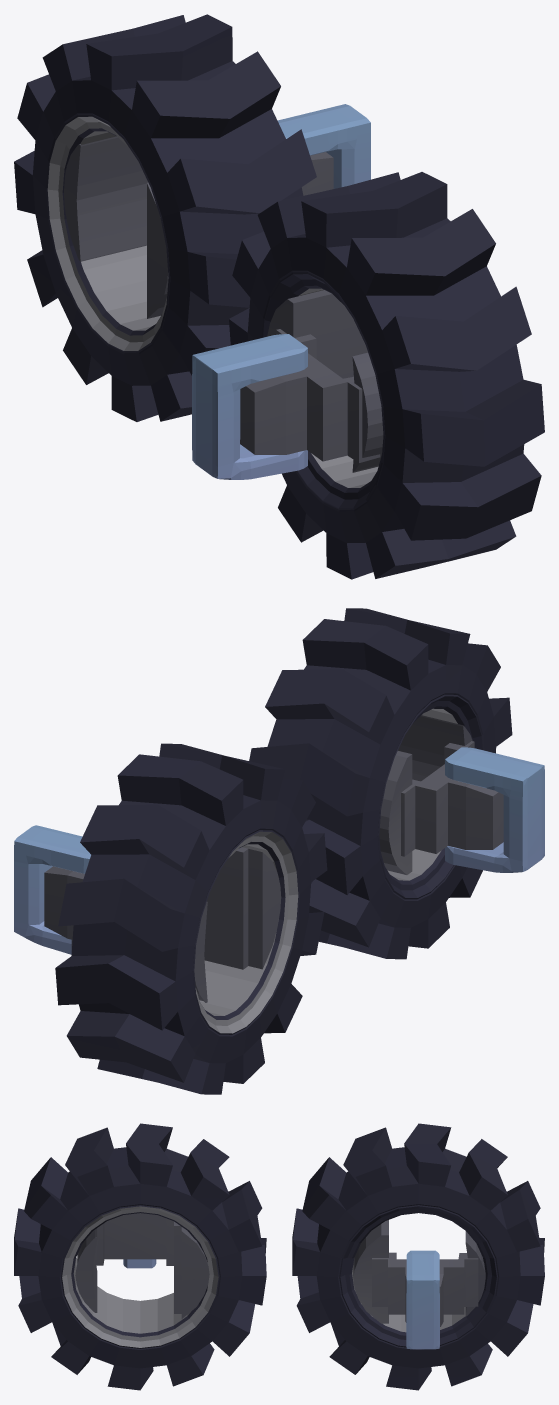
Rendered from Rodas.fbx.
The picture shows the model from 3 angles, top to bottom: view 1: azimuth 30°, elevation 25°; view 2: azimuth 150°, elevation 25°; view 3: azimuth 270°, elevation 25°; orthographic projection. The views are drawn at different scales.
Visible parts, largest first — view 1: Roda_Areia_Esquerda, Roda_Areia_Direita, Roda_Areia_Esquerda_Heixo, Roda_Areia_Direita_Heixo, Roda_Areia_Esquerda_Pivot, Roda_Areia_Direita_Pivot; view 2: Roda_Areia_Direita, Roda_Areia_Esquerda, Roda_Areia_Esquerda_Heixo, Roda_Areia_Direita_Heixo, Roda_Areia_Esquerda_Pivot, Roda_Areia_Direita_Pivot; view 3: Roda_Areia_Esquerda, Roda_Areia_Direita, Roda_Areia_Esquerda_Heixo, Roda_Areia_Direita_Heixo, Roda_Areia_Direita_Pivot.
Boxes of the visible parts, x1,y1,x2,y2 form: Roda_Areia_Esquerda: (229, 172, 544, 579); Roda_Areia_Direita: (14, 14, 316, 421); Roda_Areia_Esquerda_Heixo: (240, 290, 383, 472); Roda_Areia_Direita_Heixo: (64, 136, 333, 318); Roda_Areia_Esquerda_Pivot: (192, 334, 307, 479); Roda_Areia_Direita_Pivot: (277, 104, 370, 188); Roda_Areia_Direita: (55, 743, 327, 1094); Roda_Areia_Esquerda: (249, 608, 512, 959); Roda_Areia_Esquerda_Heixo: (379, 715, 503, 874); Roda_Areia_Direita_Heixo: (44, 847, 281, 1002); Roda_Areia_Esquerda_Pivot: (445, 747, 544, 872); Roda_Areia_Direita_Pivot: (14, 825, 90, 954); Roda_Areia_Esquerda: (14, 1123, 266, 1390); Roda_Areia_Direita: (292, 1123, 544, 1390); Roda_Areia_Esquerda_Heixo: (75, 1213, 209, 1318); Roda_Areia_Direita_Heixo: (353, 1220, 485, 1326); Roda_Areia_Direita_Pivot: (406, 1250, 439, 1349).
Size of the model in its own units: 147 by 133 by 279.
